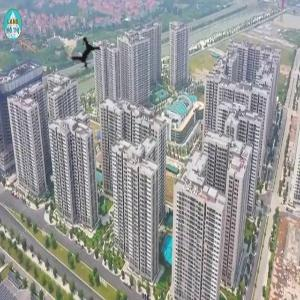drone: (51, 21, 120, 90)
